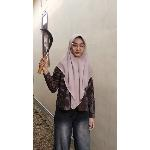Celurit: (34, 24, 58, 76)
